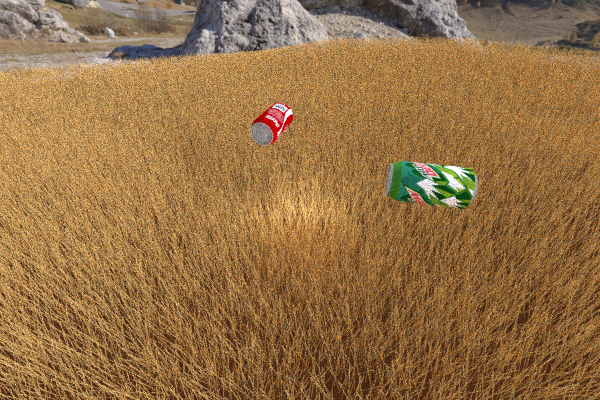bottle: (33, 314, 430, 400)
can: (385, 160, 477, 209), (250, 102, 293, 145)
